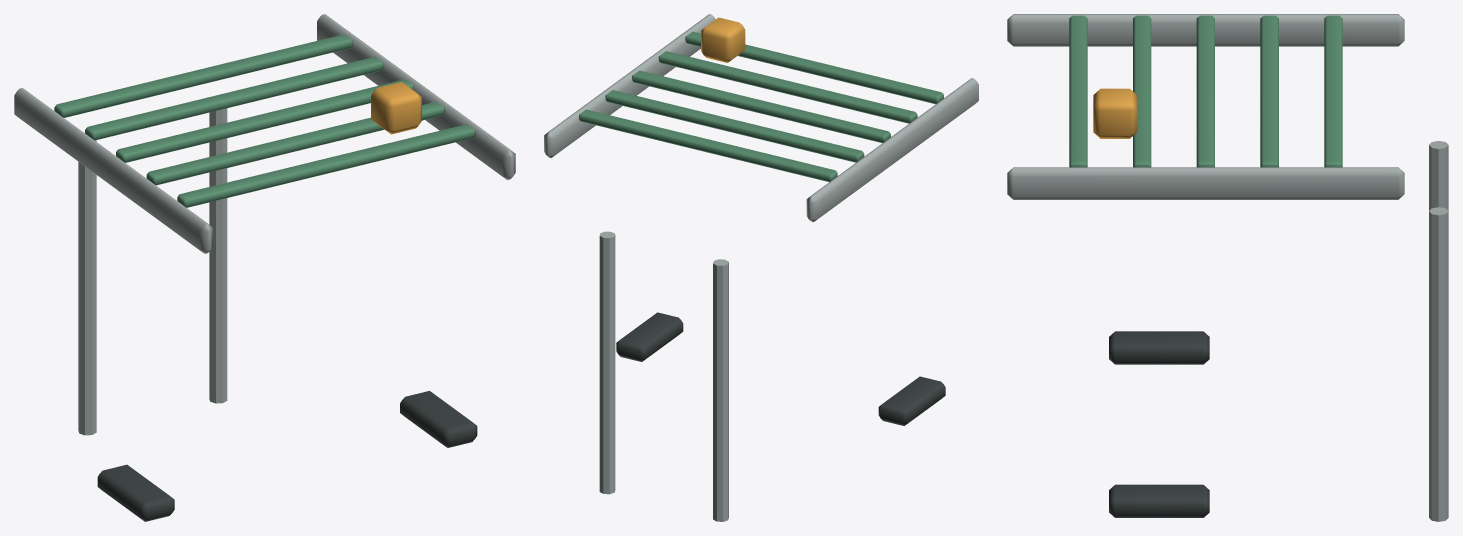
Rendered from acabado-carretilla.glb.
3 views of the same model, side by side, from view 1: azimuth 30°, elevation 25°; view 2: azimuth 150°, elevation 25°; view 3: azimuth 270°, elevation 25° (orthographic). The views are drawn at different scales.
Visible parts, largest first — view 1: Verde lacado, Aluminio satinado, Grafito, Protección amarilla; view 2: Verde lacado, Aluminio satinado, Grafito, Protección amarilla; view 3: Aluminio satinado, Verde lacado, Grafito, Protección amarilla.
Part boxes in pixels (box(x1,y1,x2,y2)): Verde lacado: box(54, 34, 475, 207); Aluminio satinado: box(14, 14, 515, 435); Grafito: box(97, 391, 477, 521); Protección amarilla: box(371, 82, 421, 134); Verde lacado: box(579, 31, 943, 181); Aluminio satinado: box(544, 14, 978, 521); Grafito: box(616, 312, 945, 425); Protección amarilla: box(701, 17, 745, 62); Aluminio satinado: box(1007, 14, 1448, 521); Verde lacado: box(1069, 15, 1342, 167); Grafito: box(1109, 331, 1209, 517); Protección amarilla: box(1093, 88, 1137, 138).
Size of the model in its own units: 1.65 by 1.96 by 1.8.
